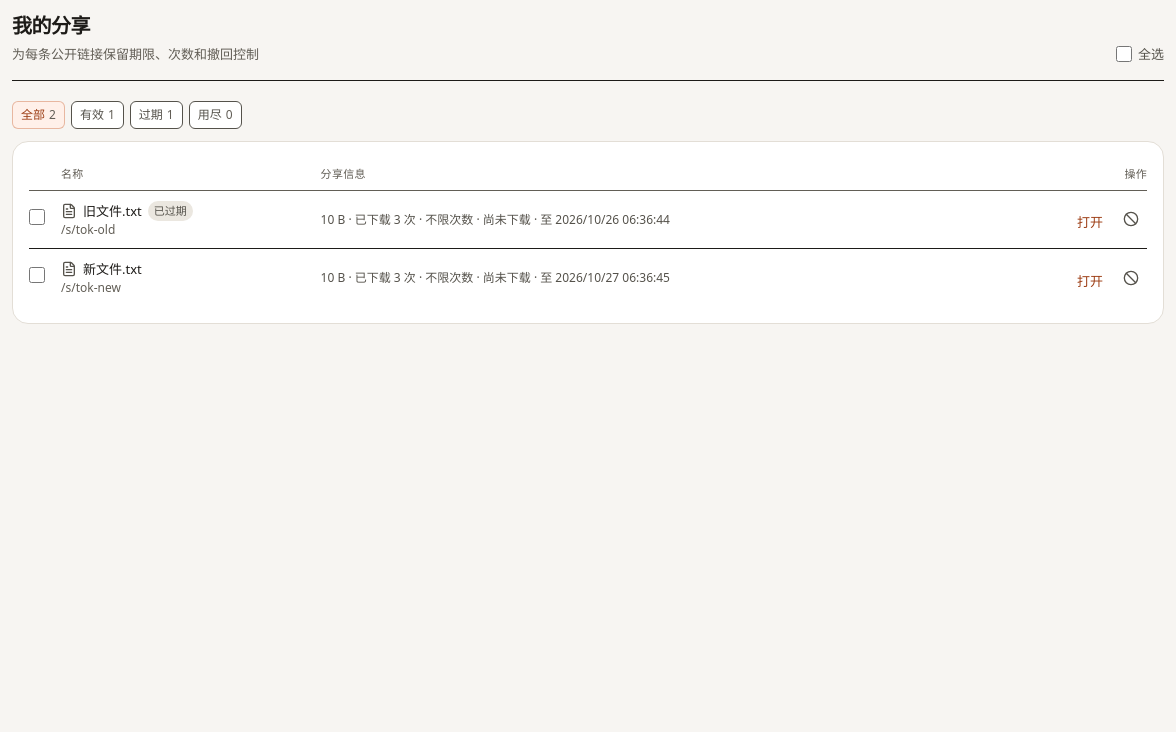
Test: 按「过期」筛选只显示已过期分享，切换筛选清空选择
The width and height of the screenshot is (1176, 732).
Expected: the text "/s/tok-old" is shown, x1=61 y1=221 x2=115 y2=238
Click the checkbox named "选择 旧文件.txt" at (37, 217), box x1=29 y1=209 x2=45 y2=225
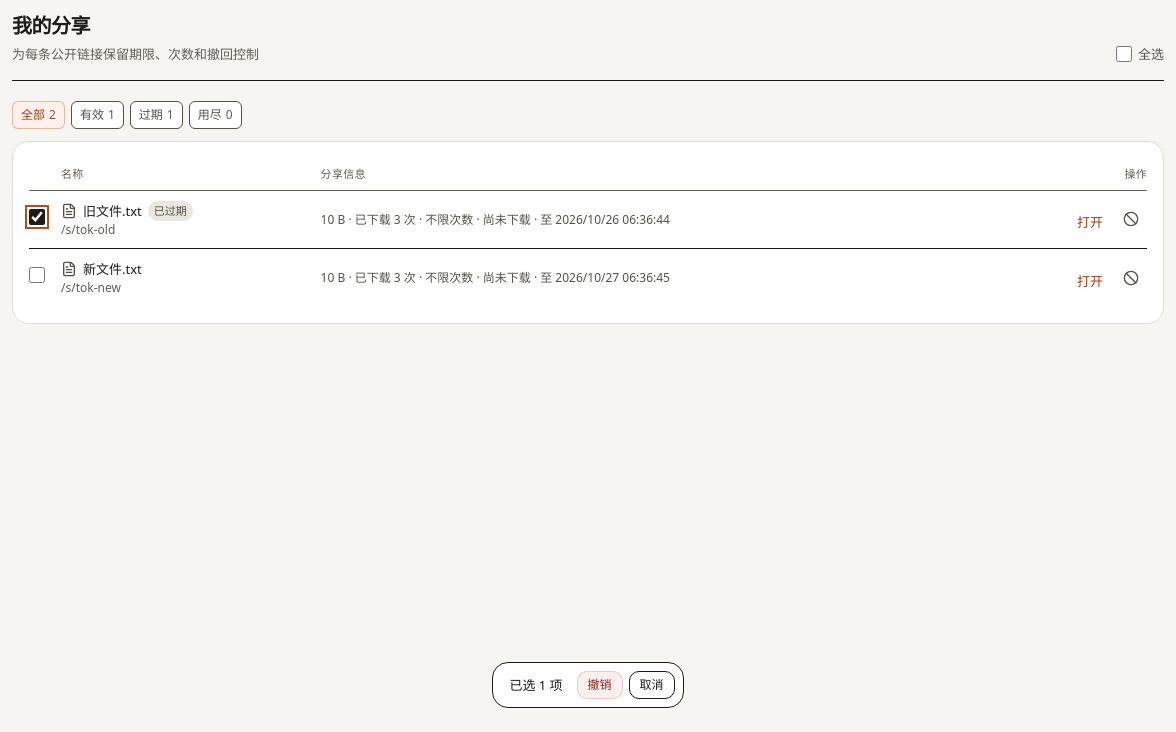
Click the button "过期1" at (156, 115), box x1=130 y1=101 x2=183 y2=129
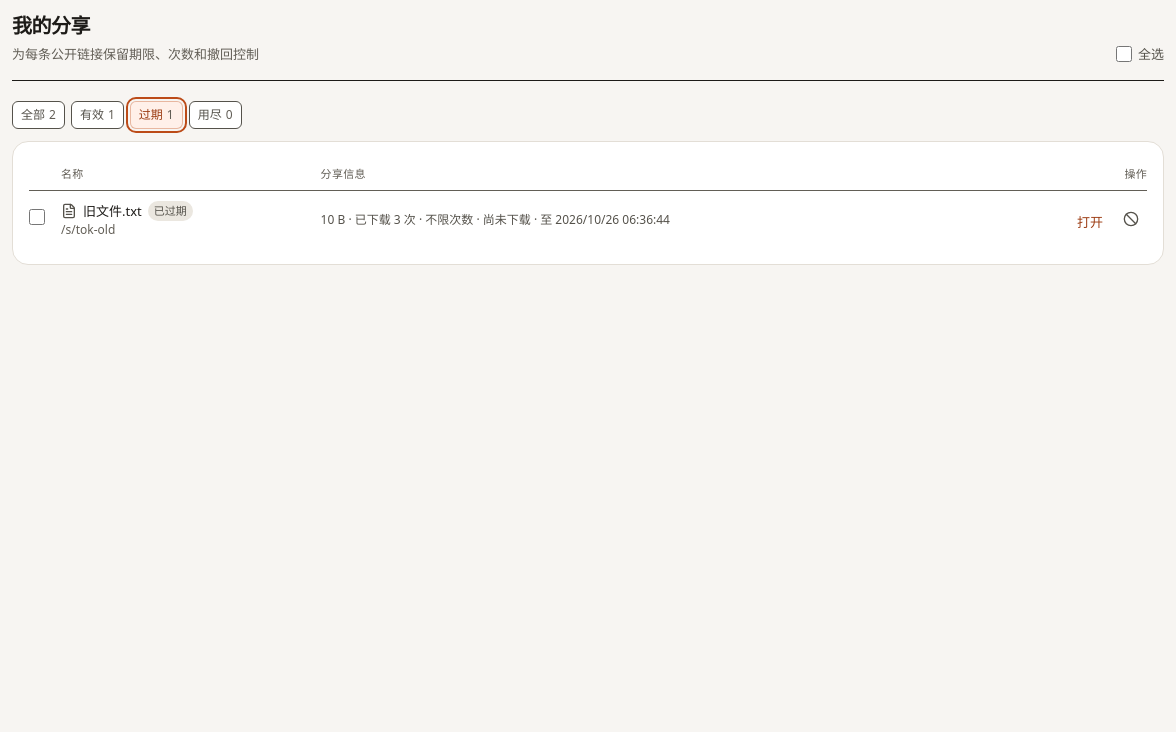
Expected: the text "/s/tok-old" is shown, x1=61 y1=221 x2=115 y2=238
Expected: the checkbox named "选择 旧文件.txt" is not checked, x1=29 y1=209 x2=45 y2=225
Expected: the text "tok-new" is gone
